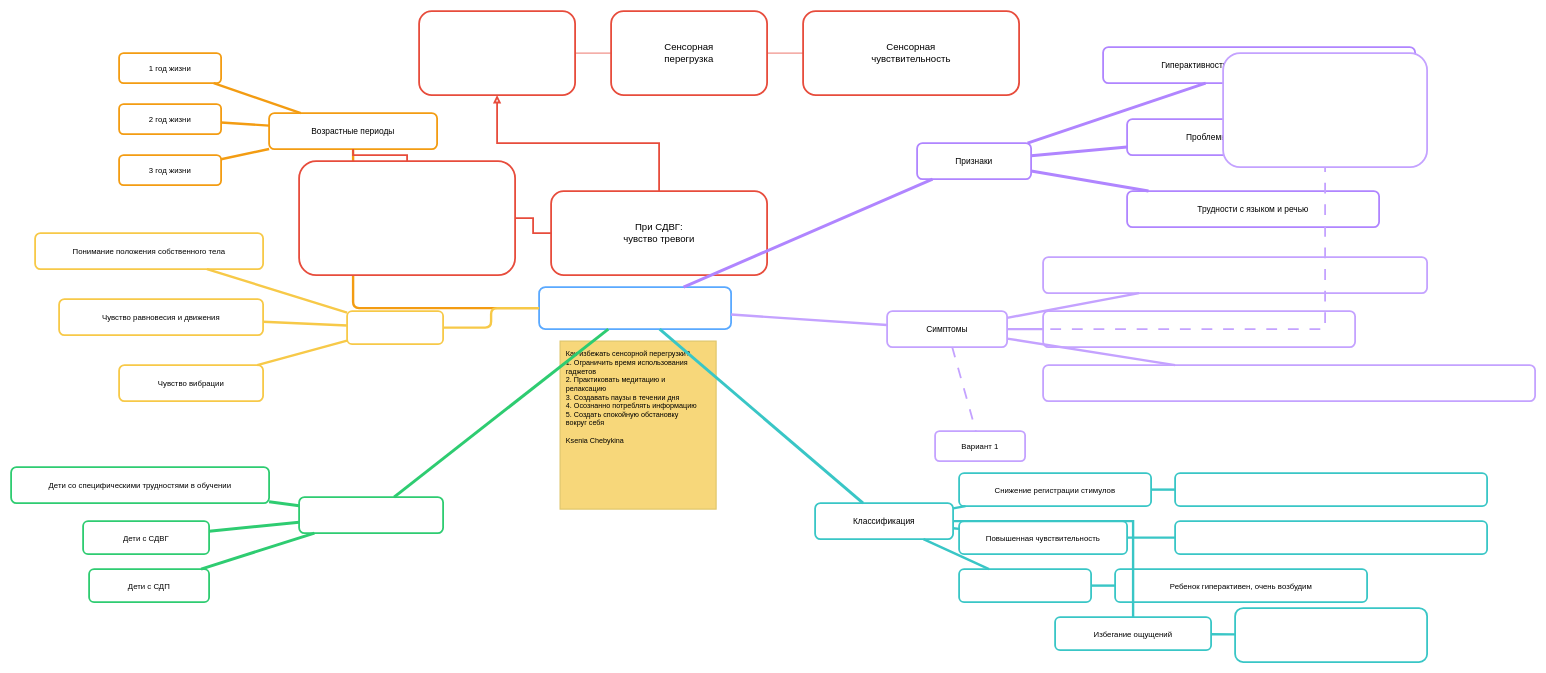
Some shapes in this 1546 by 673 pixel diagram are drawn without their labels. Here are the shapes that lost their labels. From the top down, the centre of each, then its label:
pixel 497 53: Сенсорная дисфункция
pixel 1325 110: Сложность в концентрации внимания и избыточные эмоциональные реакции
pixel 407 218: При аутизме: крики, агрессия, аутоагрессия, попытк и убежать или спрятаться
pixel 1235 275: Ребенок не может адекватно реагировать на слуховую информацию
pixel 395 327: Уровни
pixel 635 308: СЕНСОРНАЯ ИНТЕГРАЦИЯ
pixel 1199 329: Ребенку сложно тактильно воспринимать окружающее
pixel 1289 383: У детей нарушена зрительная система, моторные и вестибулярные функции
pixel 1331 489: Малоподвижность, низкая выносливость, слабый тонус мышц
pixel 371 515: На кого направлена?
pixel 1331 537: Невнимательность, высокая отвлекаемость, гиперактивность
pixel 1025 585: Поиск ощущений
pixel 1331 635: Непереносимость новых ощущений, пониженная активность
